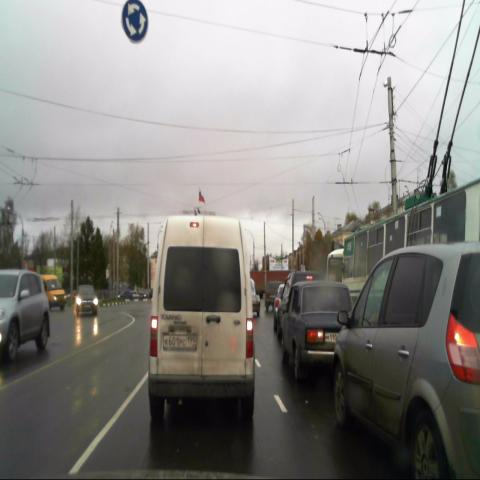4_3: (120, 0, 148, 44)
